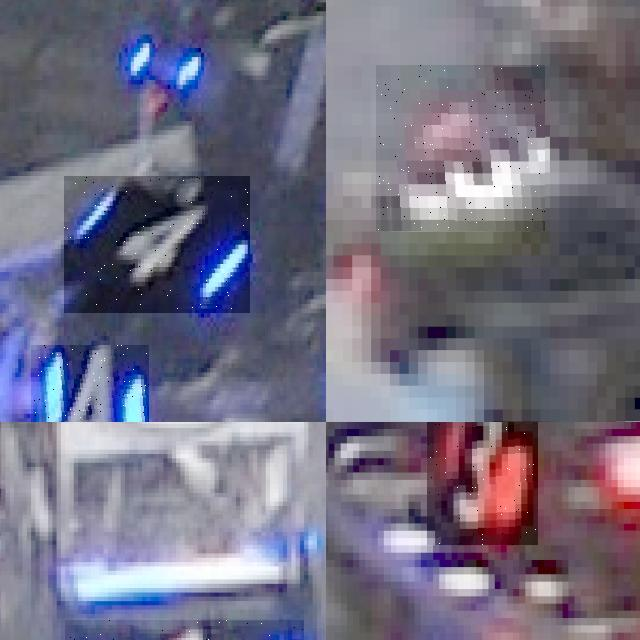B4: (64, 176, 250, 313), (30, 345, 149, 422)
R3: (376, 65, 545, 232), (427, 422, 538, 545)
